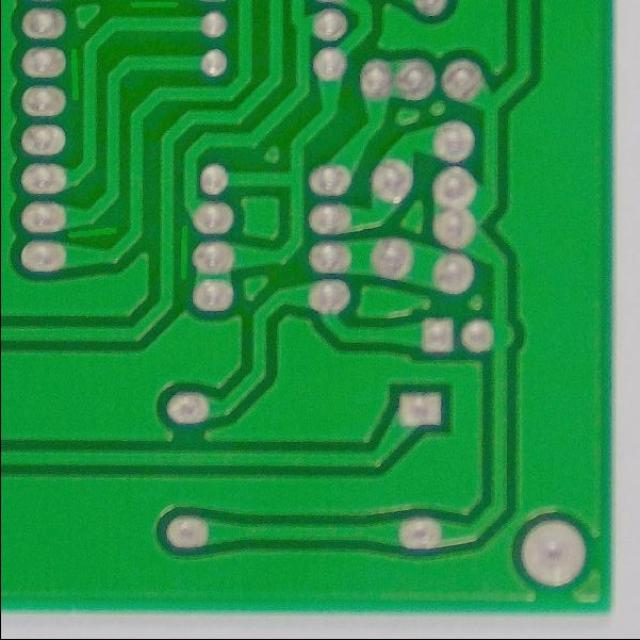spurious_copper: (61, 42, 90, 110), (168, 220, 198, 284), (67, 220, 119, 246), (120, 1, 184, 18)
